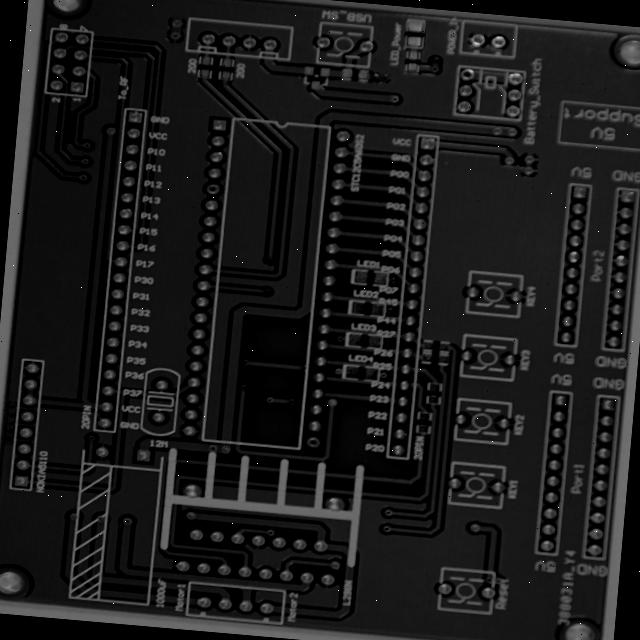missing_hole: (201, 179, 223, 197), (457, 66, 475, 83), (116, 514, 135, 529), (305, 434, 322, 450), (205, 442, 219, 453)
